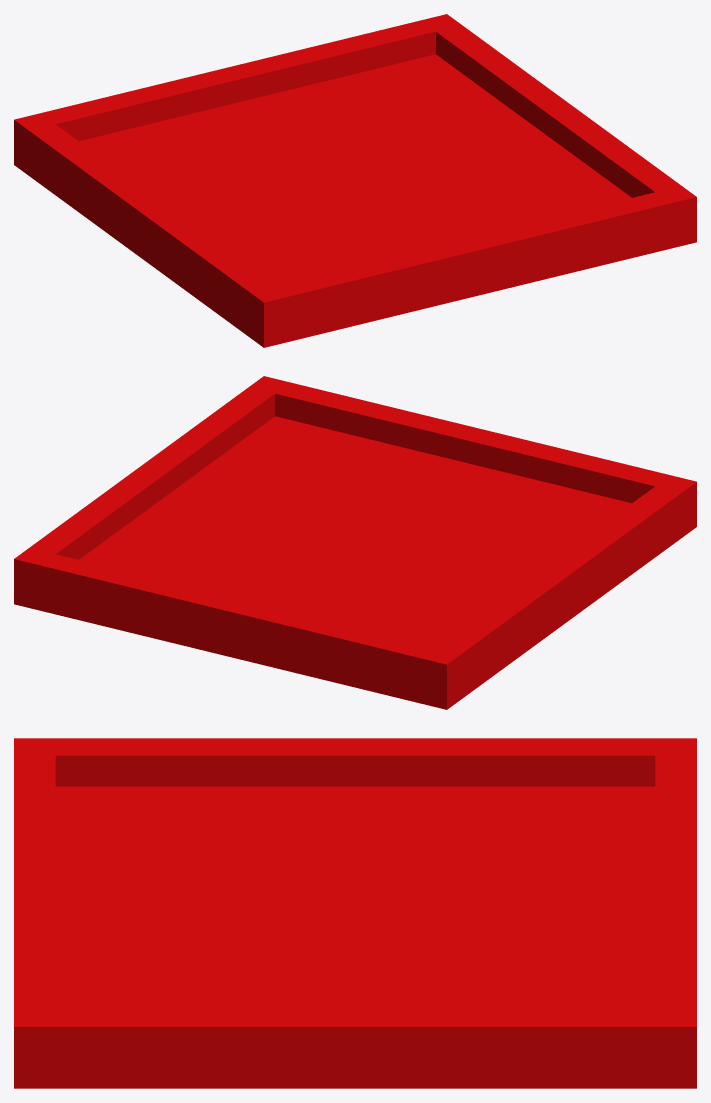
Rendered from suelo.glb.
3 views of the same model, one above another, from view 1: azimuth 30°, elevation 25°; view 2: azimuth 150°, elevation 25°; view 3: azimuth 270°, elevation 25° (orthographic). The views are drawn at different scales.
Visible parts, largest first — view 1: suelo; view 2: suelo; view 3: suelo.
Part boxes in pixels (x1,y1,x2,y2): suelo: (14, 14, 696, 347); suelo: (14, 376, 696, 709); suelo: (14, 738, 696, 1088).
Bounding box in the file's own units: 20 × 2 × 20.
